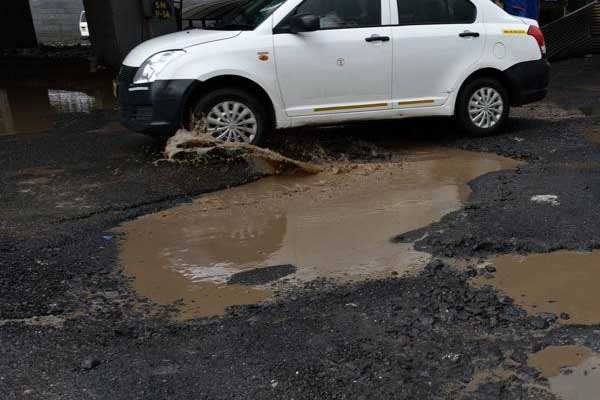pothole: (90, 130, 409, 382), (433, 219, 599, 315)
